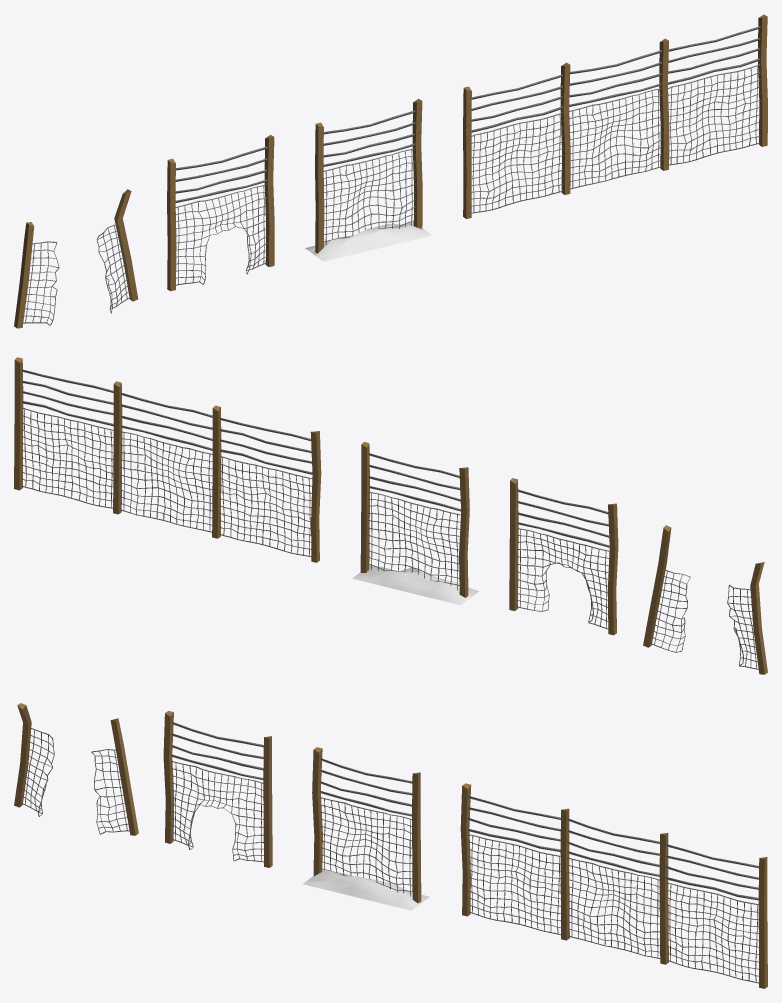
Rendered from fences_fixed.fbx.
3 renders of one model, top to bottom at view 1: azimuth 30°, elevation 25°; view 2: azimuth 150°, elevation 25°; view 3: azimuth 330°, elevation 25°, orthographic.
Parts seen in each view (by area): view 1: f2, fence_full, fence_with_hole, f1, f3, 2fence_broken, snow; view 2: f2, fence_full, fence_with_hole, f1, f3, 2fence_broken, snow; view 3: f2, fence_full, fence_with_hole, f1, f3, 2fence_broken, snow.
Part boxes in pixels (bbox=[...]): f2: bbox=[463, 62, 570, 218]; fence_full: bbox=[315, 98, 422, 253]; fence_with_hole: bbox=[167, 135, 274, 291]; f1: bbox=[569, 38, 669, 189]; f3: bbox=[668, 14, 767, 165]; 2fence_broken: bbox=[14, 189, 138, 328]; snow: bbox=[305, 221, 431, 261]; f2: bbox=[212, 405, 321, 562]; fence_full: bbox=[360, 442, 469, 597]; fence_with_hole: bbox=[509, 478, 618, 635]; f1: bbox=[113, 381, 212, 532]; f3: bbox=[14, 357, 113, 508]; 2fence_broken: bbox=[643, 525, 767, 674]; snow: bbox=[352, 565, 478, 604]; f2: bbox=[460, 783, 569, 940]; fence_full: bbox=[312, 747, 421, 903]; fence_with_hole: bbox=[163, 711, 272, 867]; f1: bbox=[567, 818, 668, 964]; f3: bbox=[665, 844, 767, 988]; 2fence_broken: bbox=[14, 703, 138, 835]; snow: bbox=[303, 870, 429, 910].
Size of the model in its own units: 1519 by 260 by 66.
